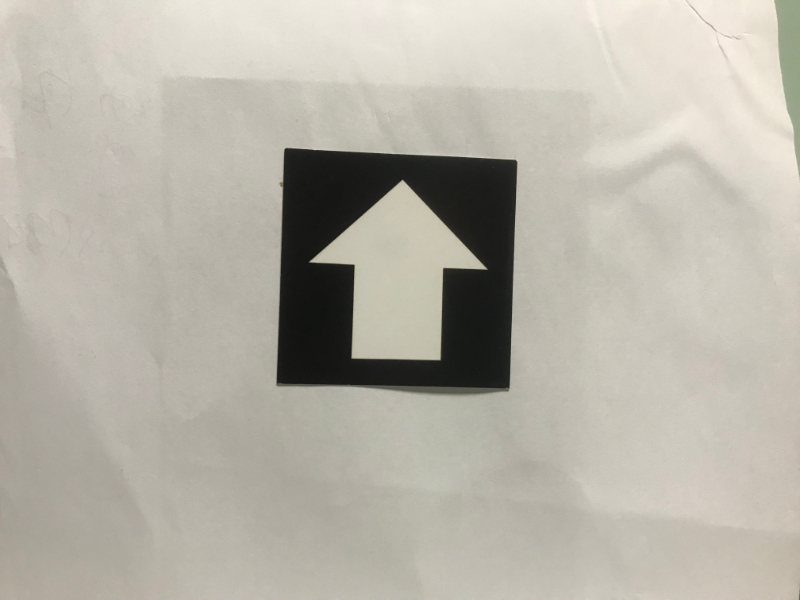UA-1: (289, 164, 505, 379)
